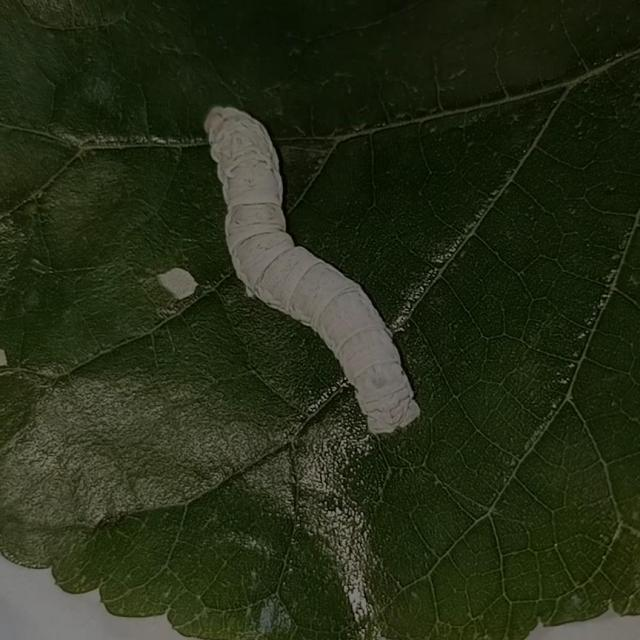Healthy: (187, 100, 432, 446)
